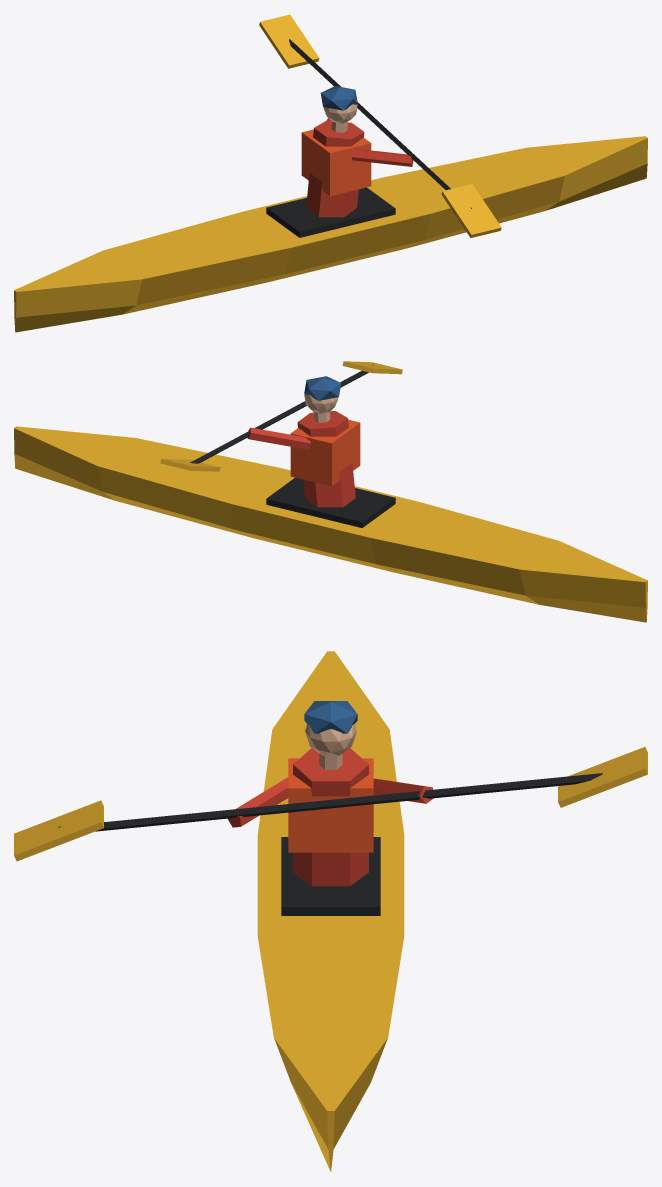
Rendered from kajak.glb.
3 renders of one model, top to bottom at view 1: azimuth 30°, elevation 25°; view 2: azimuth 150°, elevation 25°; view 3: azimuth 270°, elevation 25°, orthographic. The views are drawn at different scales.
Visible parts, largest first — view 1: kajak; view 2: kajak; view 3: kajak.
Part boxes in pixels (bbox=[...]): kajak: bbox=[14, 14, 647, 332]; kajak: bbox=[14, 361, 647, 622]; kajak: bbox=[14, 651, 647, 1171].
Size of the model in its own units: 4.6 by 1.23 by 2.68.
